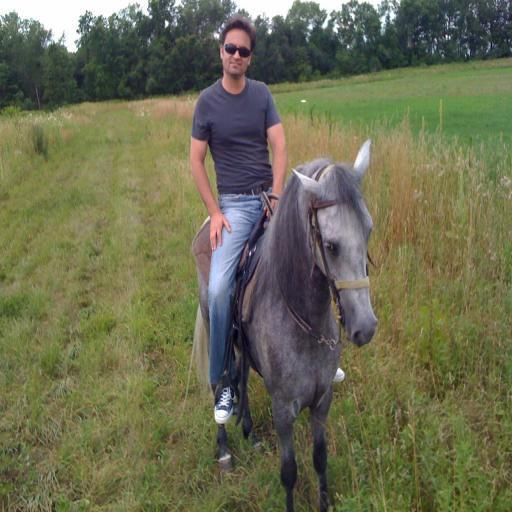horse: (184, 140, 380, 512)
